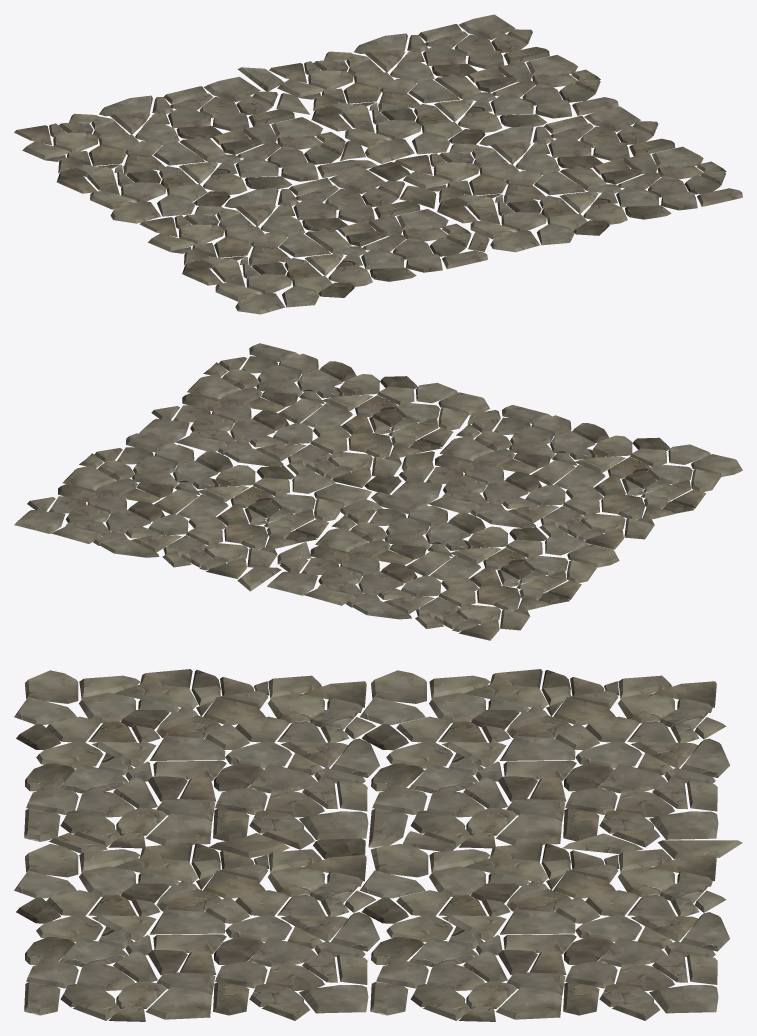
File: teste piso .fbx
3 views of the same model, one above another, from view 1: azimuth 30°, elevation 25°; view 2: azimuth 150°, elevation 25°; view 3: azimuth 270°, elevation 25° (orthographic). The views are drawn at different scales.
Parts seen in each view (by area): view 1: copia piso .001; view 2: copia piso .001; view 3: copia piso .001.
Part boxes in pixels (<box>): copia piso .001: <box>14,14,742,314</box>; copia piso .001: <box>14,343,742,640</box>; copia piso .001: <box>14,669,742,1021</box>.
Bounding box in the file's own units: 1424 × 12.04 × 1255.
